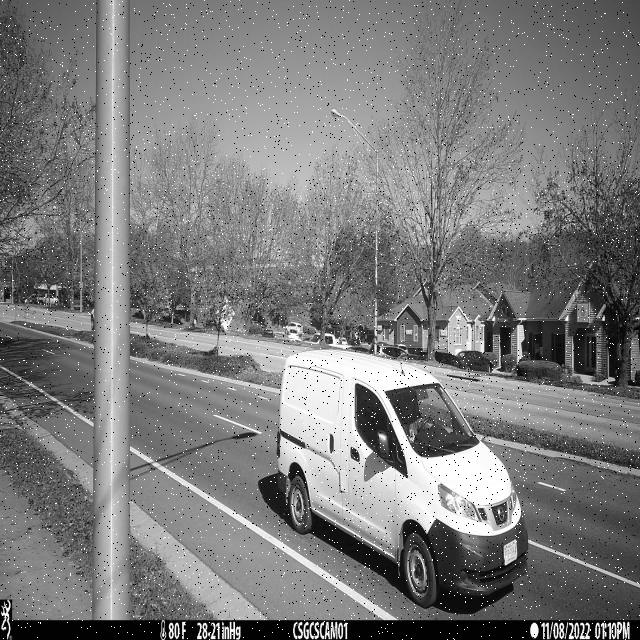Van: (275, 350, 528, 609)
